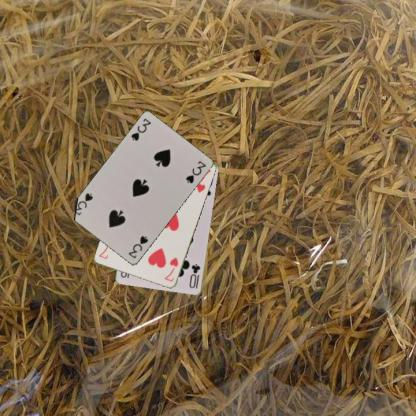10c: (186, 262, 202, 289)
3s: (128, 116, 153, 142), (126, 233, 149, 260)
7h: (162, 255, 180, 283)
